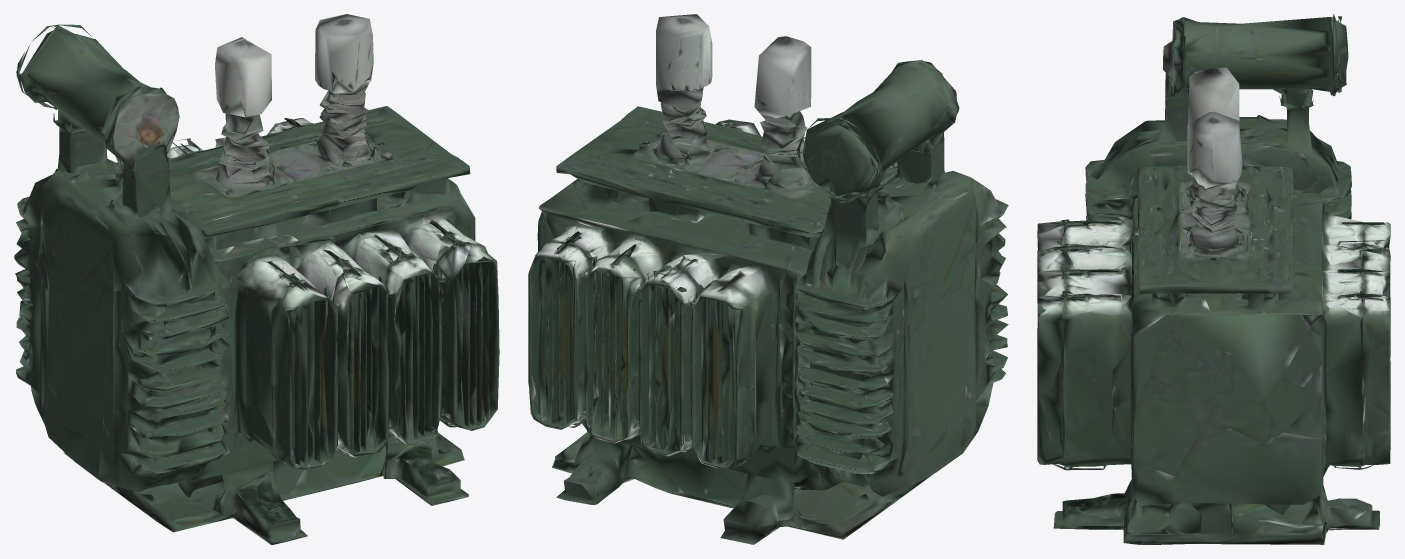
File: transformer.glb
3 renders of one model, left to right at view 1: azimuth 30°, elevation 25°; view 2: azimuth 150°, elevation 25°; view 3: azimuth 270°, elevation 25°, orthographic. The views are drawn at different scales.
Bounding box in the file's own units: 1.64 × 1.9 × 1.53.
Materials: 1 (1 with a texture image).
